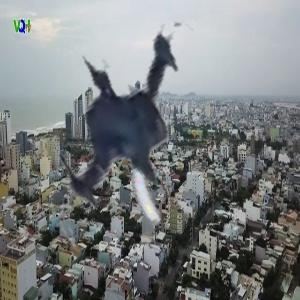drone: (9, 21, 251, 263)
